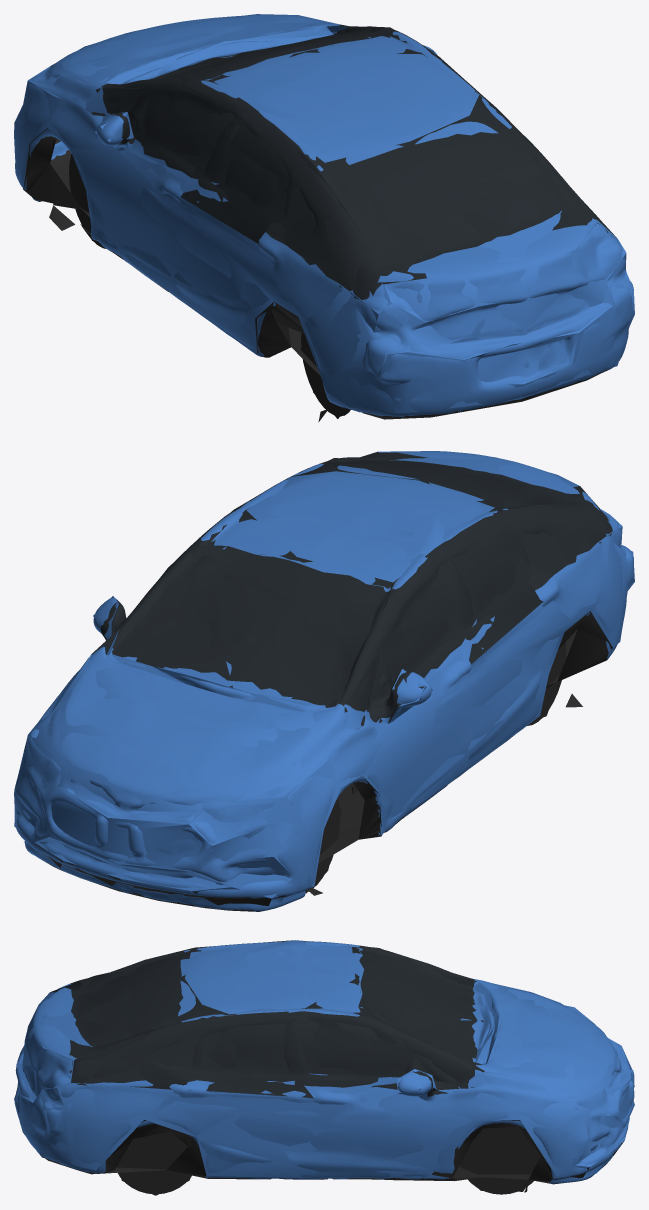
File: chevrolet-cruze.glb
The picture shows the model from 3 angles, top to bottom: view 1: azimuth 30°, elevation 25°; view 2: azimuth 150°, elevation 25°; view 3: azimuth 270°, elevation 25°; orthographic projection. The views are drawn at different scales.
Parts seen in each view (by area): view 1: body, far; view 2: body, far; view 3: body, far.
Boxes of the visible parts, <box> form: body: <box>14,15,633,422</box>; far: <box>14,14,634,418</box>; body: <box>14,451,634,911</box>; far: <box>14,451,634,905</box>; body: <box>14,941,634,1194</box>; far: <box>14,940,634,1195</box>.
Bounding box in the file's own units: 2.13 × 1.48 × 4.57.
